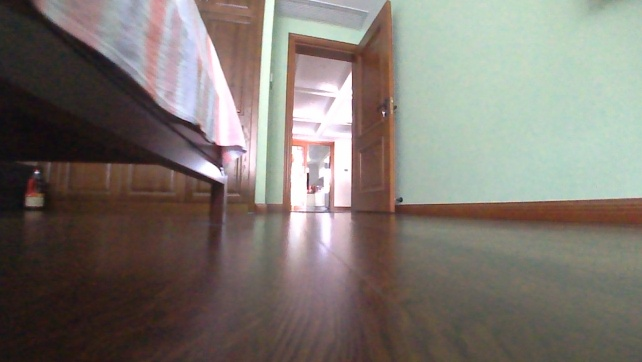bed1: (0, 0, 249, 205)
door_anno: (347, 0, 400, 215)
